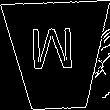M_S: (33, 29, 80, 82)
